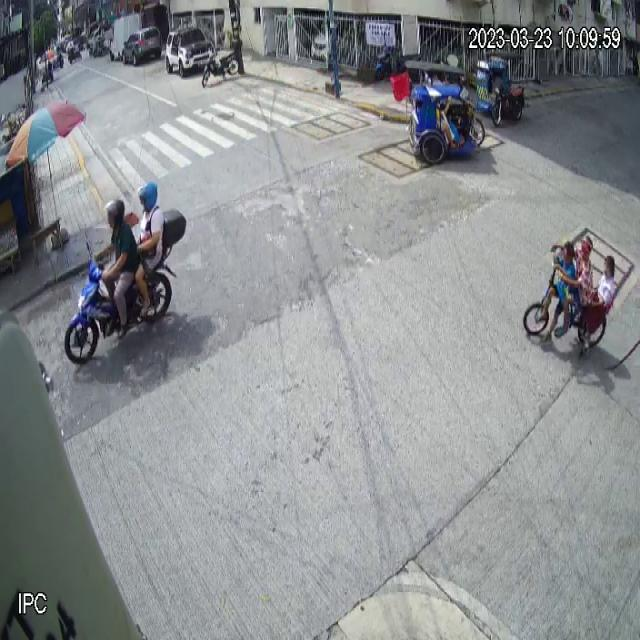Motorcycle: (64, 258, 177, 366), (201, 38, 243, 88)
Tricycle: (401, 58, 486, 165)
